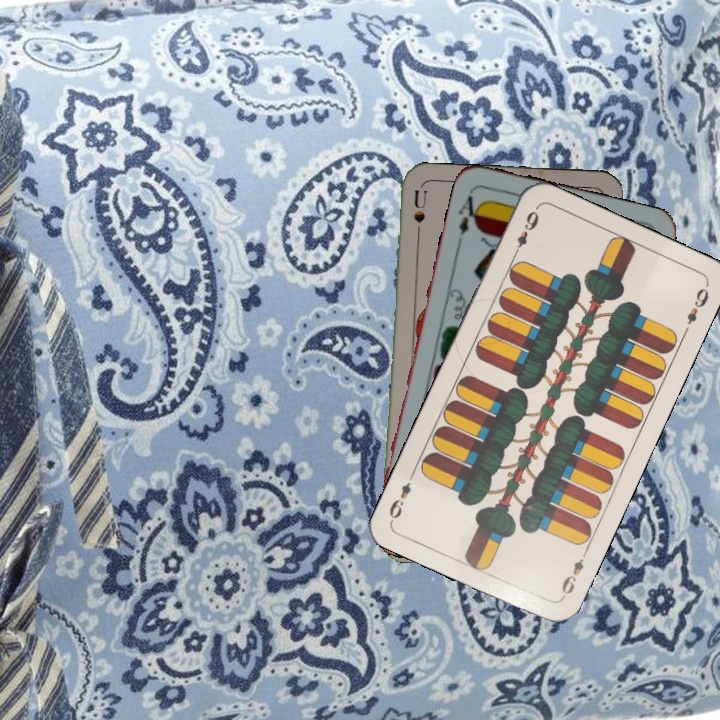E9: (509, 204, 542, 260), (557, 546, 590, 601)
EA: (453, 187, 484, 246)
SU: (409, 187, 428, 246)
